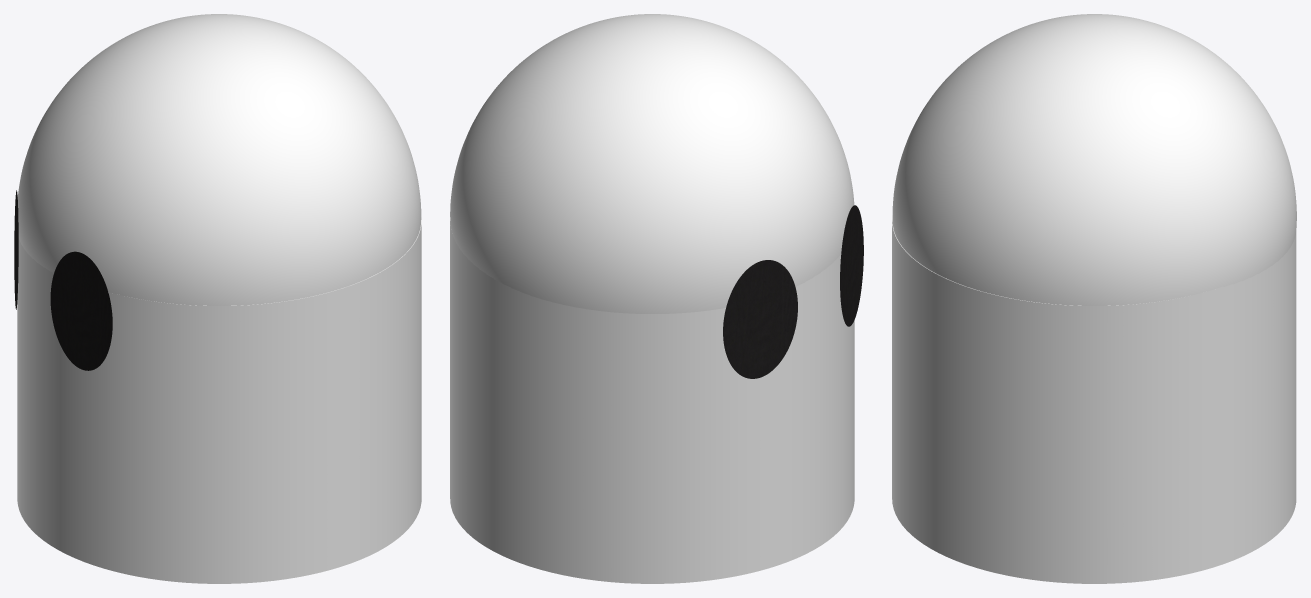
3 views of the same model, side by side, from view 1: azimuth 30°, elevation 25°; view 2: azimuth 150°, elevation 25°; view 3: azimuth 270°, elevation 25° (orthographic).
Parts seen in each view (by area): view 1: Cylinder, Sphere, Circle; view 2: Cylinder, Sphere, Circle (×2); view 3: Cylinder, Sphere.
Part boxes in pixels (x1,y1,x2,y2): Cylinder: (17, 217, 421, 583); Sphere: (17, 14, 421, 305); Circle: (50, 251, 112, 370); Cylinder: (450, 218, 854, 583); Sphere: (450, 14, 854, 313); Circle (×2): (723, 205, 863, 378); Cylinder: (892, 215, 1296, 583); Sphere: (892, 14, 1296, 305).
Size of the model in its own units: 2.02 by 2.54 by 2.
4 materials, 4 textured.
